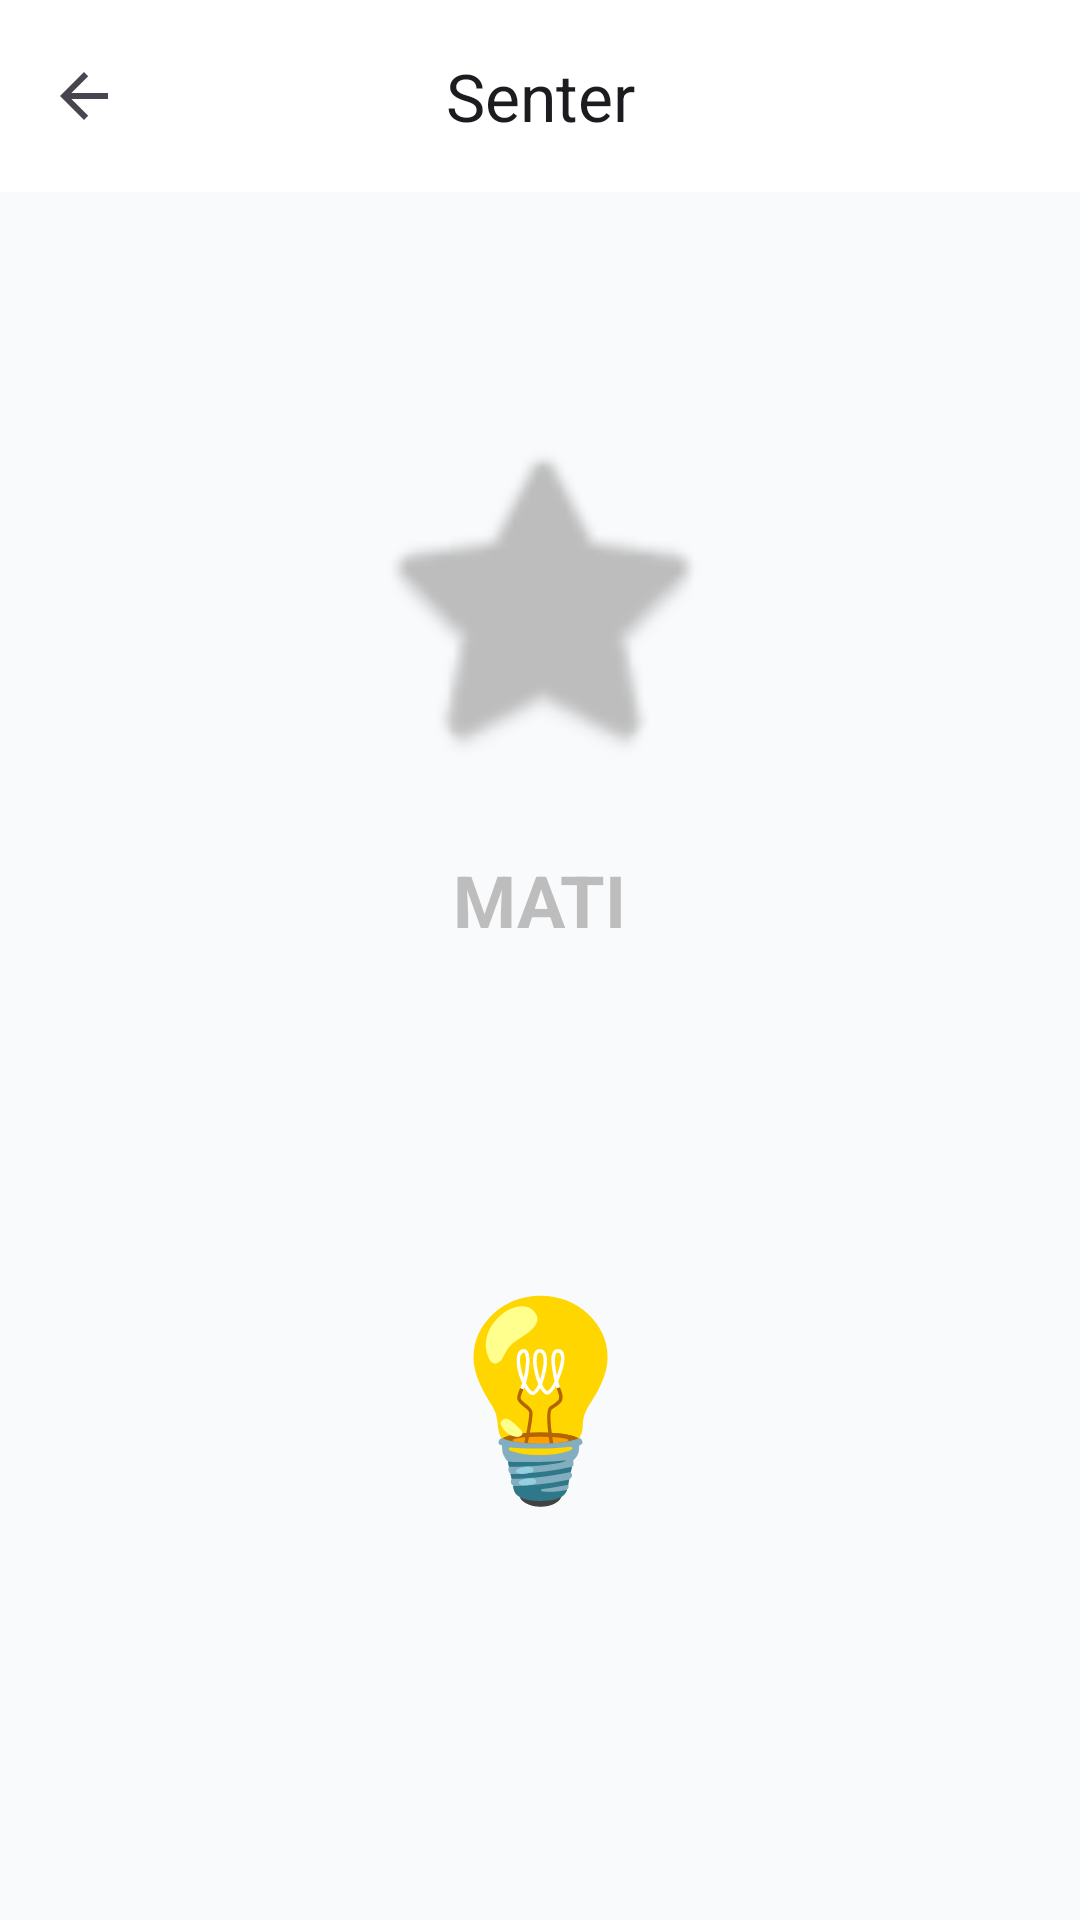

Named icons in this screenshot (1080*1920) and their centers, [x,y]:
star off: [543,601]
